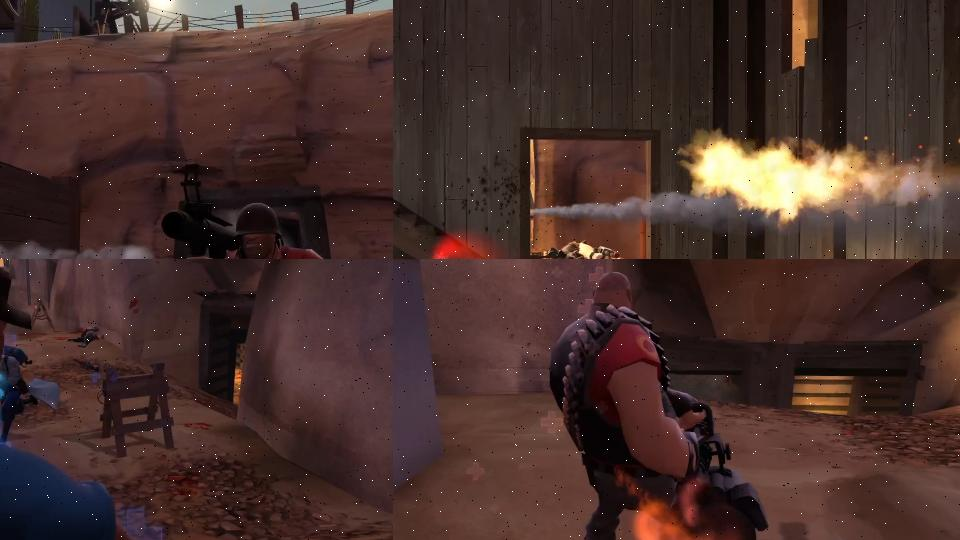Enemy: (547, 267, 769, 540), (0, 259, 174, 540), (155, 154, 346, 259), (0, 339, 61, 446), (579, 241, 629, 259)
